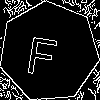F: (24, 27, 61, 77)
